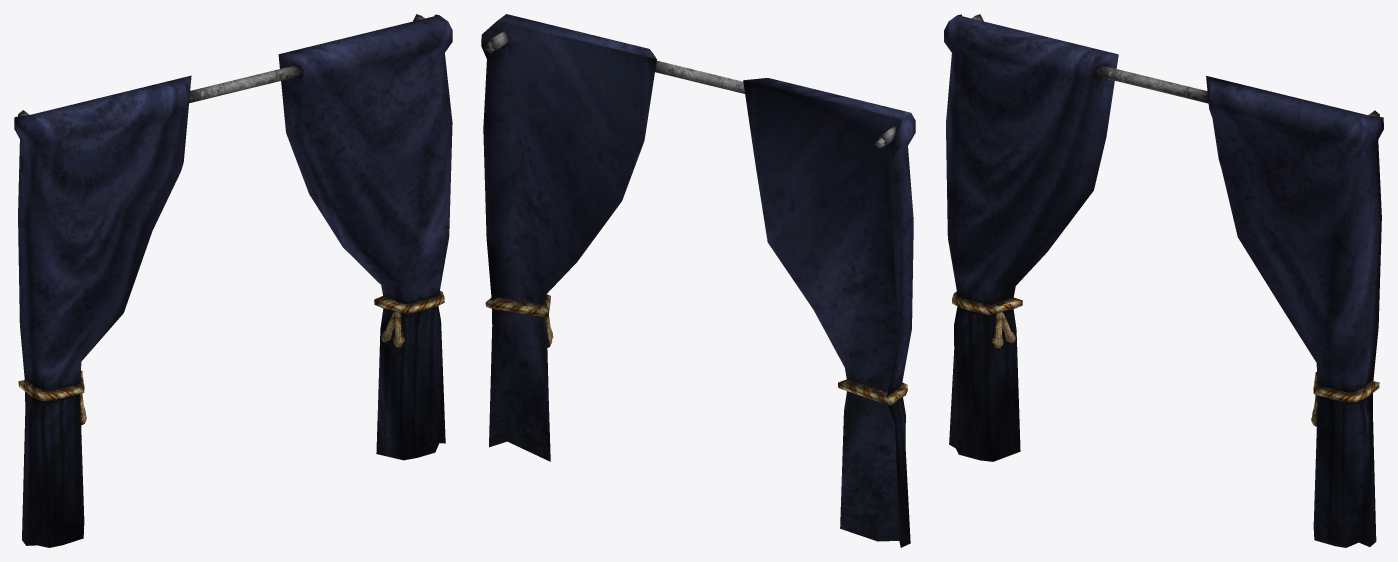
File: curtain03_open.dae
3 renders of one model, left to right at view 1: azimuth 30°, elevation 25°; view 2: azimuth 150°, elevation 25°; view 3: azimuth 330°, elevation 25°, orthographic.
Parts seen in each view (by area): view 1: curtain01_open; view 2: curtain01_open; view 3: curtain01_open.
Boxes of the visible parts, left/top/right/bottom form: curtain01_open: left=14, top=14, right=452, bottom=547; curtain01_open: left=481, top=14, right=915, bottom=547; curtain01_open: left=944, top=14, right=1383, bottom=547.
Size of the model in its own units: 3.75 by 3.68 by 0.4366.
